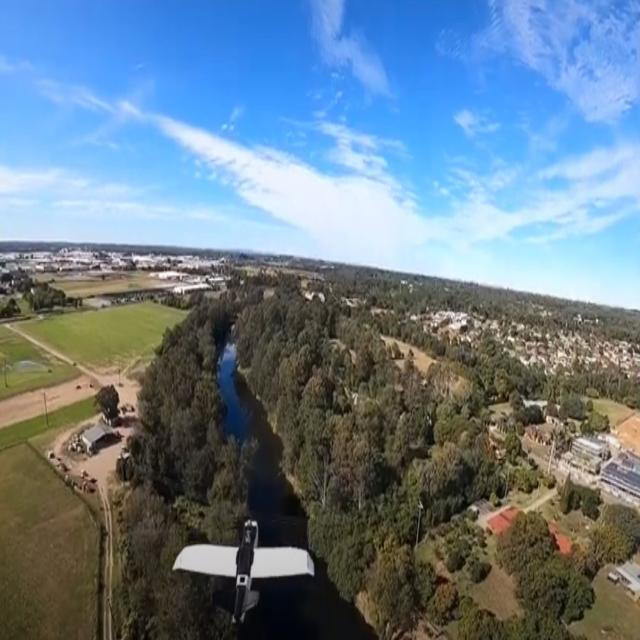iha: (171, 551, 316, 608)
